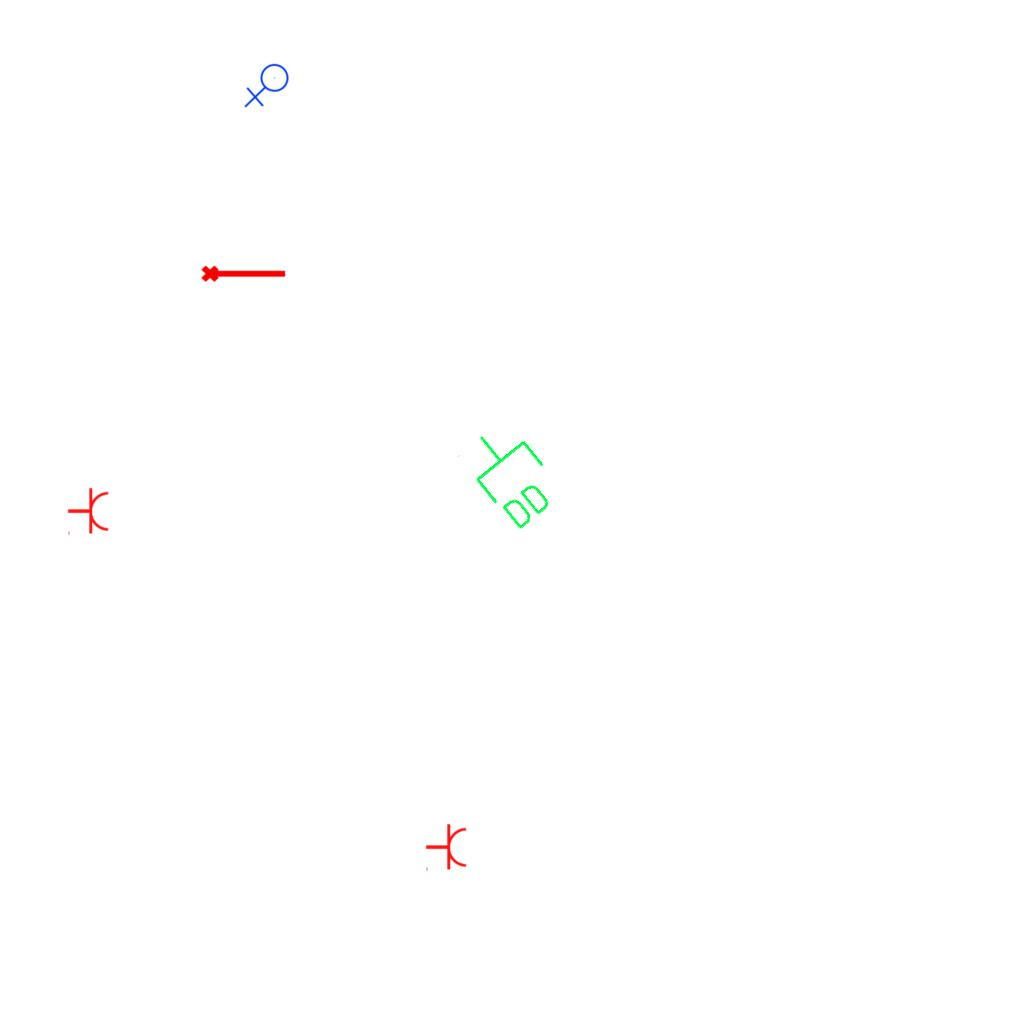ASR_Ansaugoeffnung: (200, 261, 288, 284)
Datenanschluss_zweifach: (452, 413, 571, 538)
Elektroanschluss_allgemein_230V_Geraeteanschlussdose_230V: (244, 63, 293, 110)
Schukosteckdose_einfach: (425, 823, 468, 873), (67, 487, 110, 537)
